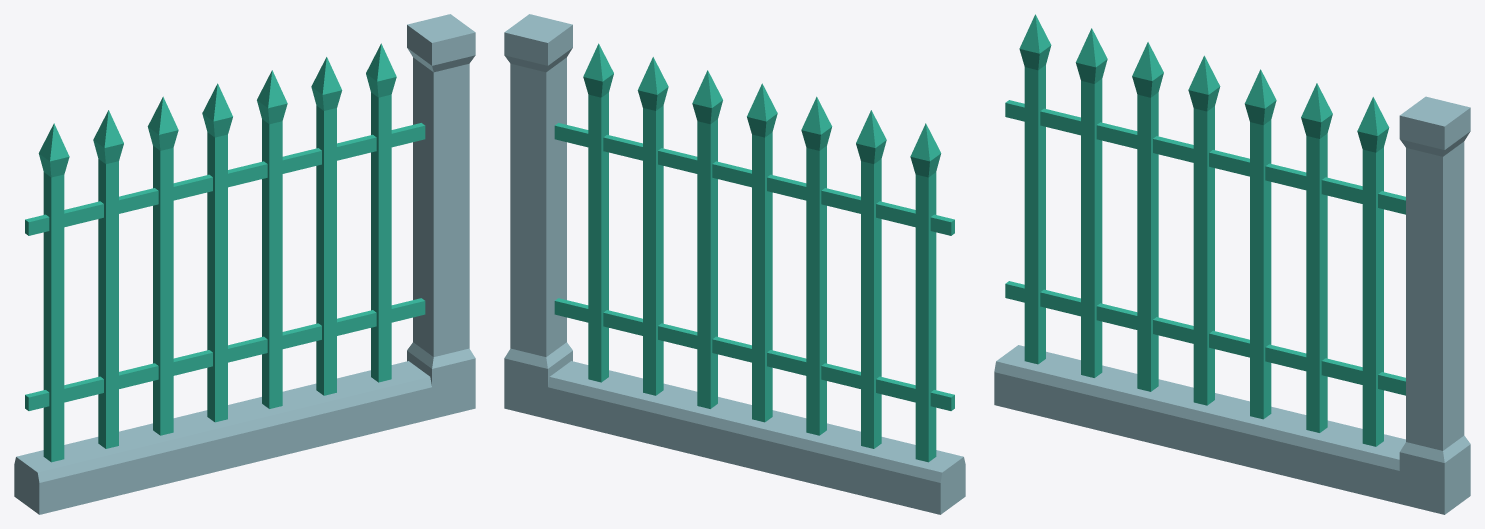
Rendered from ironFenceBorderColumn.fbx.
3 renders of one model, left to right at view 1: azimuth 30°, elevation 25°; view 2: azimuth 150°, elevation 25°; view 3: azimuth 330°, elevation 25°, orthographic. The views are drawn at different scales.
Visible parts, largest first — view 1: ironFenceBorderColumn; view 2: ironFenceBorderColumn; view 3: ironFenceBorderColumn.
Part boxes in pixels (left/top/right/bottom): ironFenceBorderColumn: left=14, top=14, right=475, bottom=514; ironFenceBorderColumn: left=504, top=14, right=965, bottom=514; ironFenceBorderColumn: left=994, top=14, right=1470, bottom=514.
Size of the model in its own units: 10 by 8.24 by 1.
